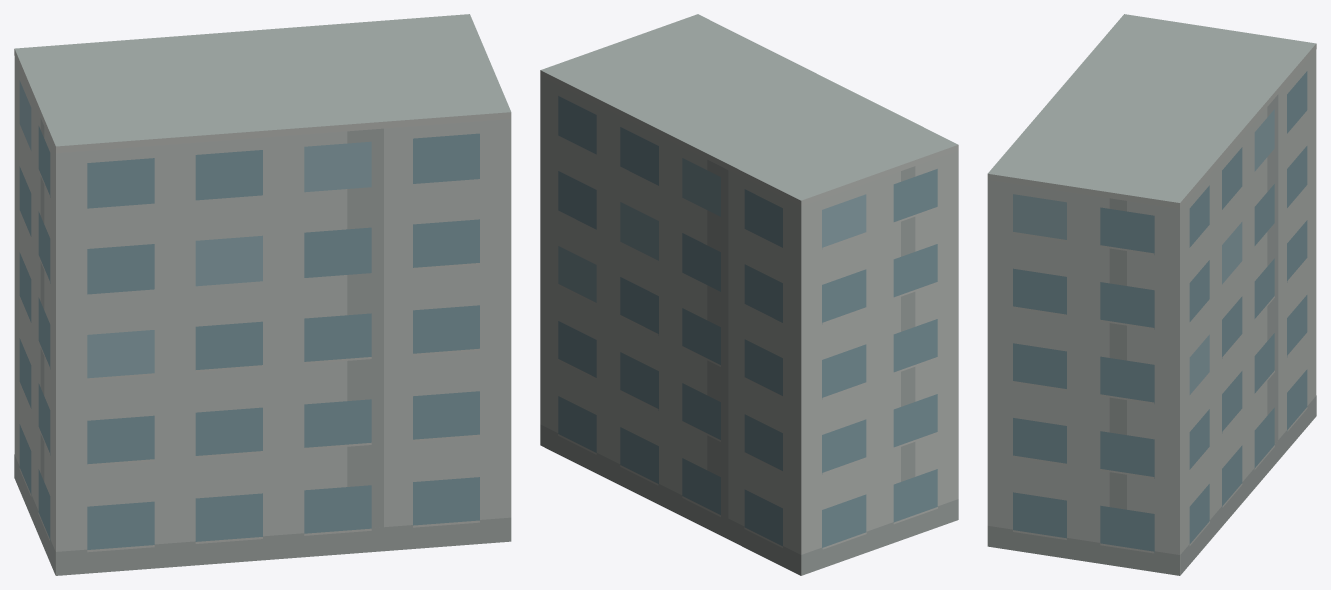
The model's file is residential-f6b8e822-e700-4cde-b470-d66e93c268b0.glb.
3 renders of one model, left to right at view 1: azimuth 30°, elevation 25°; view 2: azimuth 150°, elevation 25°; view 3: azimuth 270°, elevation 25°, orthographic. The views are drawn at different scales.
Visible parts, largest first — view 1: residential-f6b8e822-e700-4cde-b470-d66e93c268b0.tmp; view 2: residential-f6b8e822-e700-4cde-b470-d66e93c268b0.tmp; view 3: residential-f6b8e822-e700-4cde-b470-d66e93c268b0.tmp.
Boxes of the visible parts, bbox=[...] form: residential-f6b8e822-e700-4cde-b470-d66e93c268b0.tmp: bbox=[14, 14, 511, 575]; residential-f6b8e822-e700-4cde-b470-d66e93c268b0.tmp: bbox=[540, 14, 958, 575]; residential-f6b8e822-e700-4cde-b470-d66e93c268b0.tmp: bbox=[987, 14, 1316, 575].
Size of the model in its own units: 16.6 by 15.25 by 12.2.
